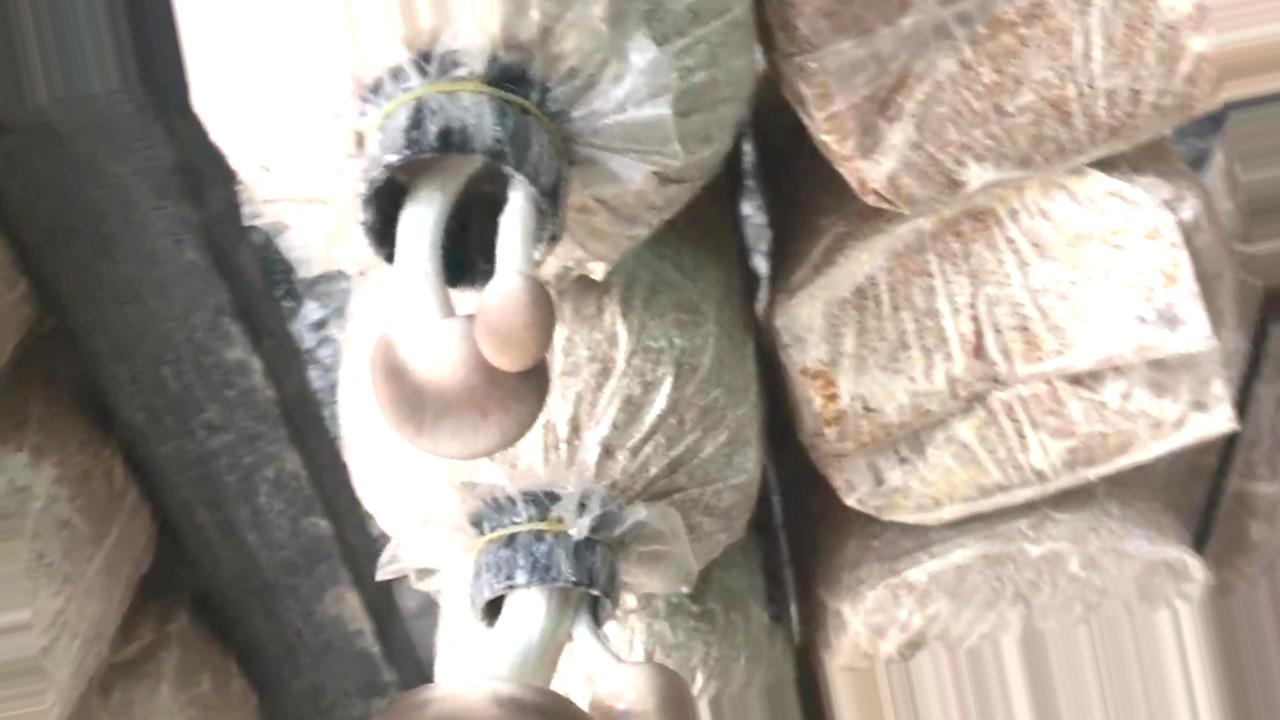nam: (357, 88, 564, 460), (380, 517, 698, 720)
